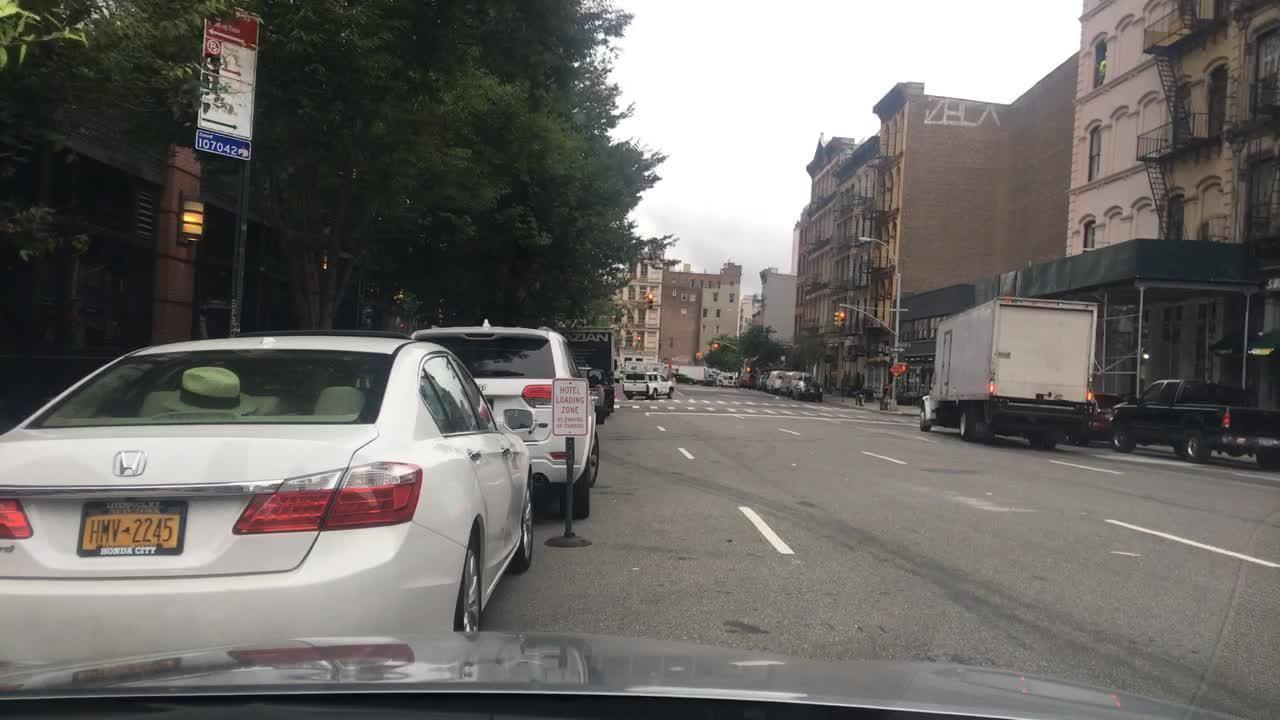Honda: (105, 437, 155, 490)
